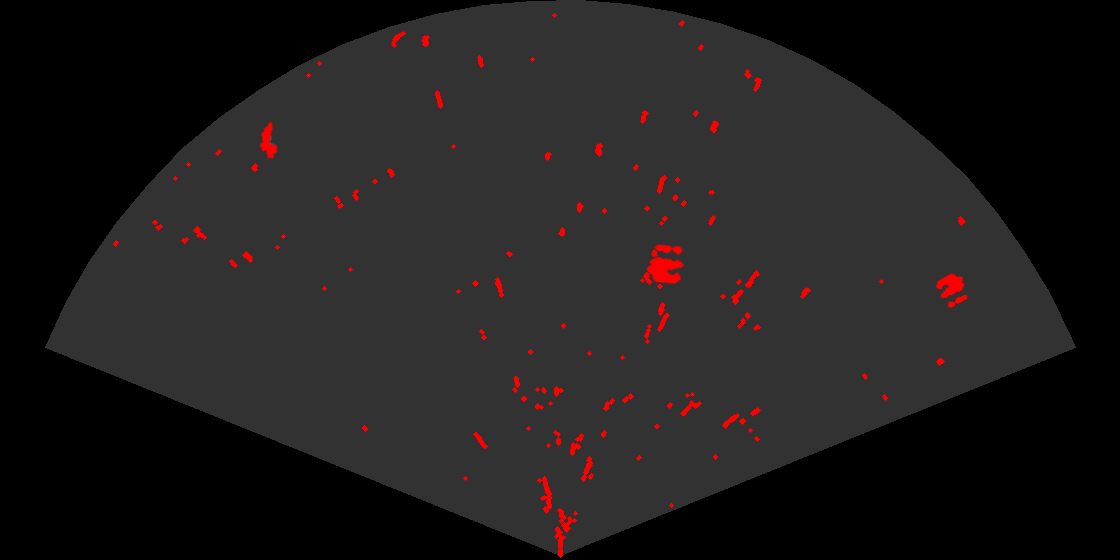AUV: (258, 120, 279, 161)
ball: (645, 243, 686, 286), (934, 272, 969, 309)
